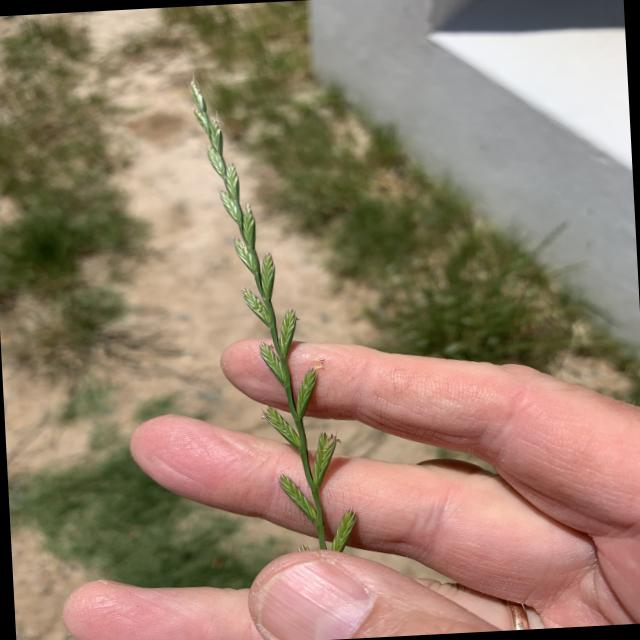Lolium: (184, 67, 362, 560), (326, 506, 364, 556)
